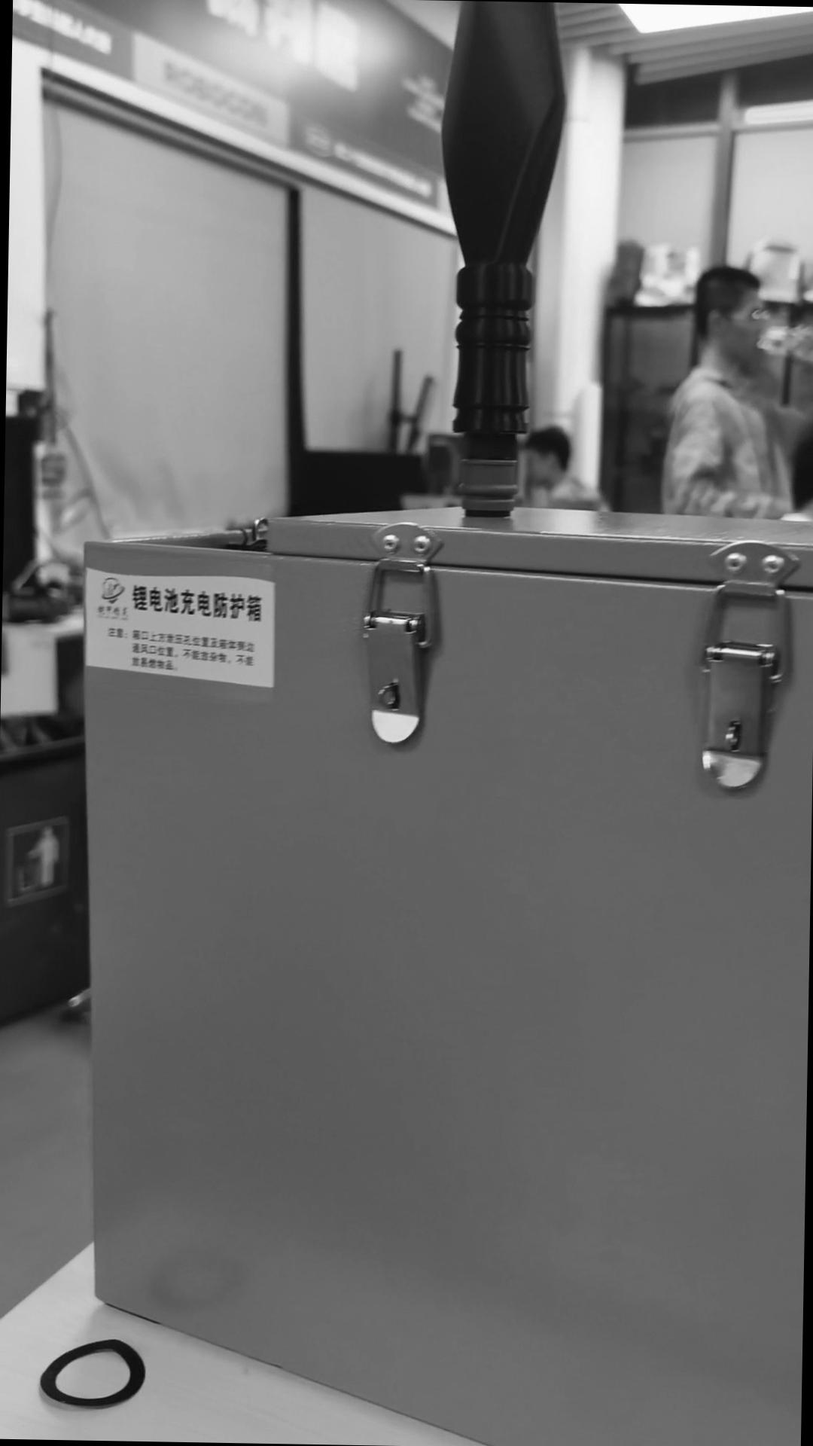base: (455, 458, 518, 516)
